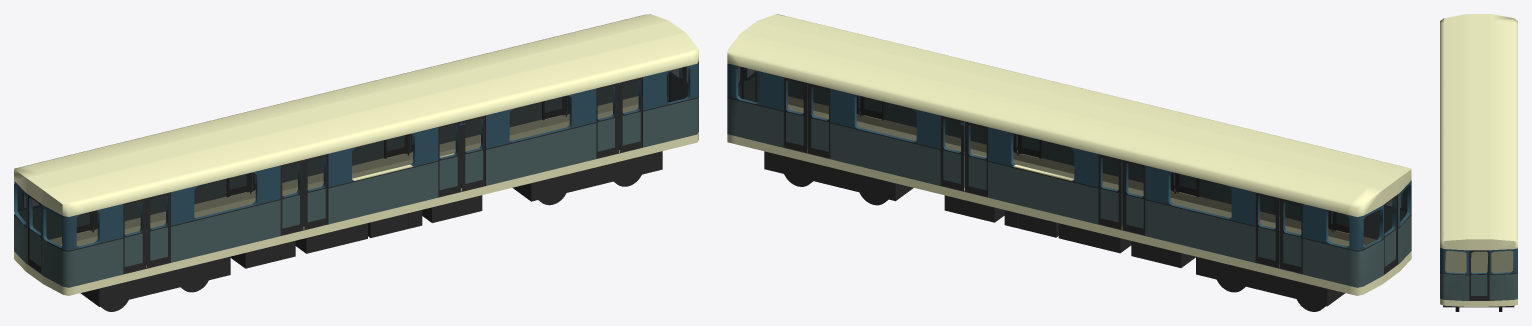
The model's file is wagon.fbx.
3 views of the same model, side by side, from view 1: azimuth 30°, elevation 25°; view 2: azimuth 150°, elevation 25°; view 3: azimuth 270°, elevation 25° (orthographic). The views are drawn at different scales.
Parts seen in each view (by area): view 1: wagon, appareillage_12, appareillage_13, appareillage_11, appareillage_10; view 2: wagon, appareillage_13, appareillage_12, appareillage_11, appareillage_10; view 3: wagon, appareillage_13.
Part boxes in pixels (x1,y1,x2,y2): wagon: [14, 14, 698, 295]; appareillage_12: [80, 256, 230, 306]; appareillage_13: [512, 151, 662, 201]; appareillage_11: [230, 240, 295, 268]; appareillage_10: [422, 195, 482, 222]; wagon: [727, 14, 1411, 295]; appareillage_13: [764, 151, 913, 201]; appareillage_12: [1196, 256, 1345, 306]; appareillage_11: [1131, 241, 1195, 267]; appareillage_10: [944, 195, 1004, 222]; wagon: [1440, 14, 1517, 306]; appareillage_13: [1443, 305, 1514, 307].
Size of the model in its own units: 2498 by 488 by 364.
